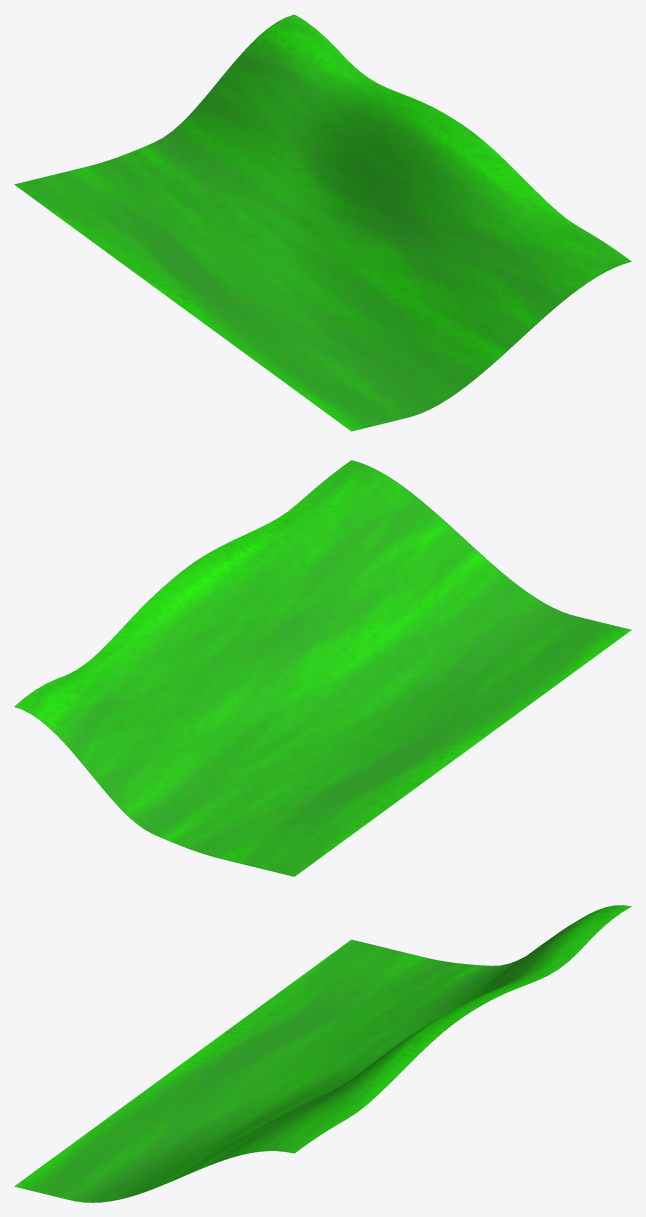
File: Colina.fbx
3 views of the same model, one above another, from view 1: azimuth 30°, elevation 25°; view 2: azimuth 150°, elevation 25°; view 3: azimuth 330°, elevation 25° (orthographic).
Parts seen in each view (by area): view 1: Colina; view 2: Colina; view 3: Colina.
Boxes of the visible parts, x1=… form: Colina: x1=14, y1=14, x2=631, y2=431; Colina: x1=14, y1=460, x2=631, y2=876; Colina: x1=14, y1=905, x2=631, y2=1202.
Size of the model in its own units: 13845 by 5401 by 28853.
